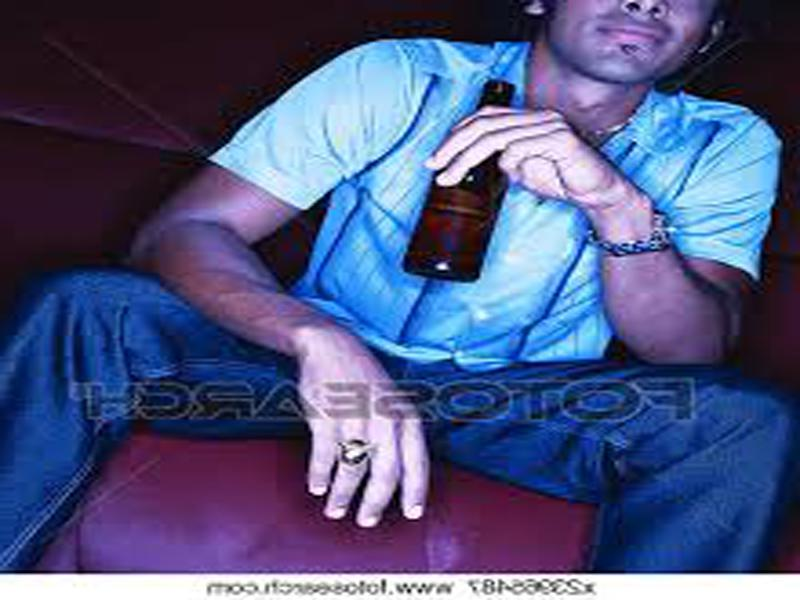Beer: (399, 79, 515, 280)
